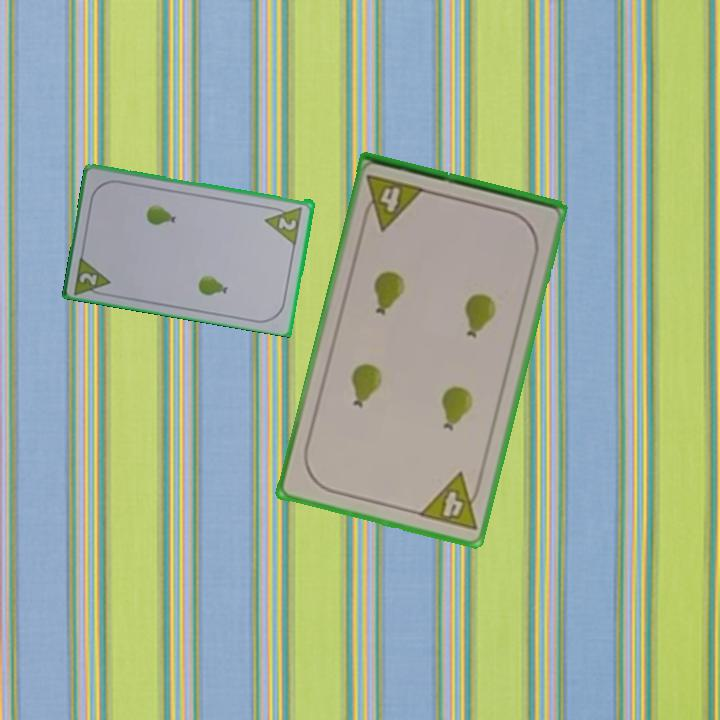2p: (275, 214, 300, 233), (76, 269, 100, 288)
4p: (415, 469, 486, 534), (358, 171, 428, 233)
